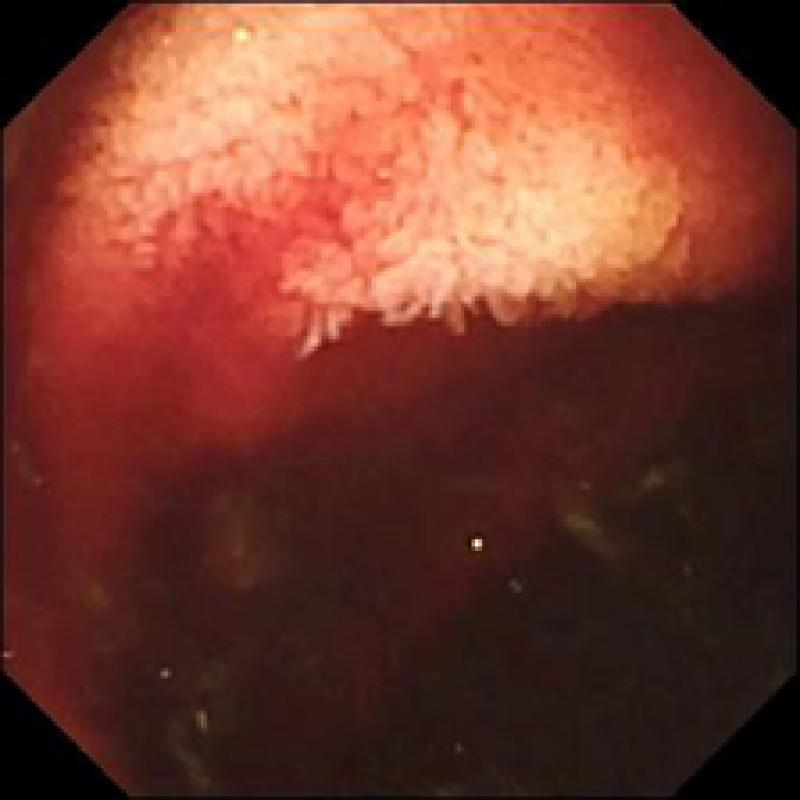bleeding: (0, 14, 671, 774)
